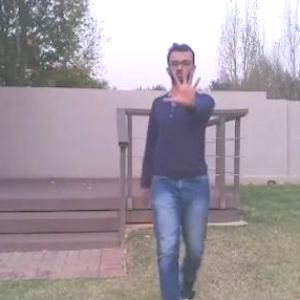follow_hand: (162, 65, 203, 105)
